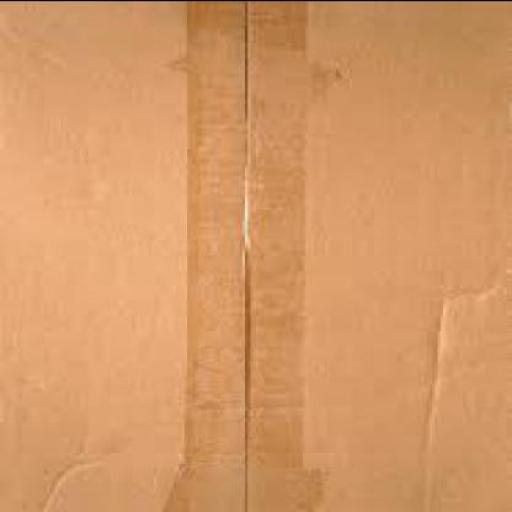cardboard: (0, 1, 512, 511), (242, 1, 512, 511), (0, 1, 245, 511)
